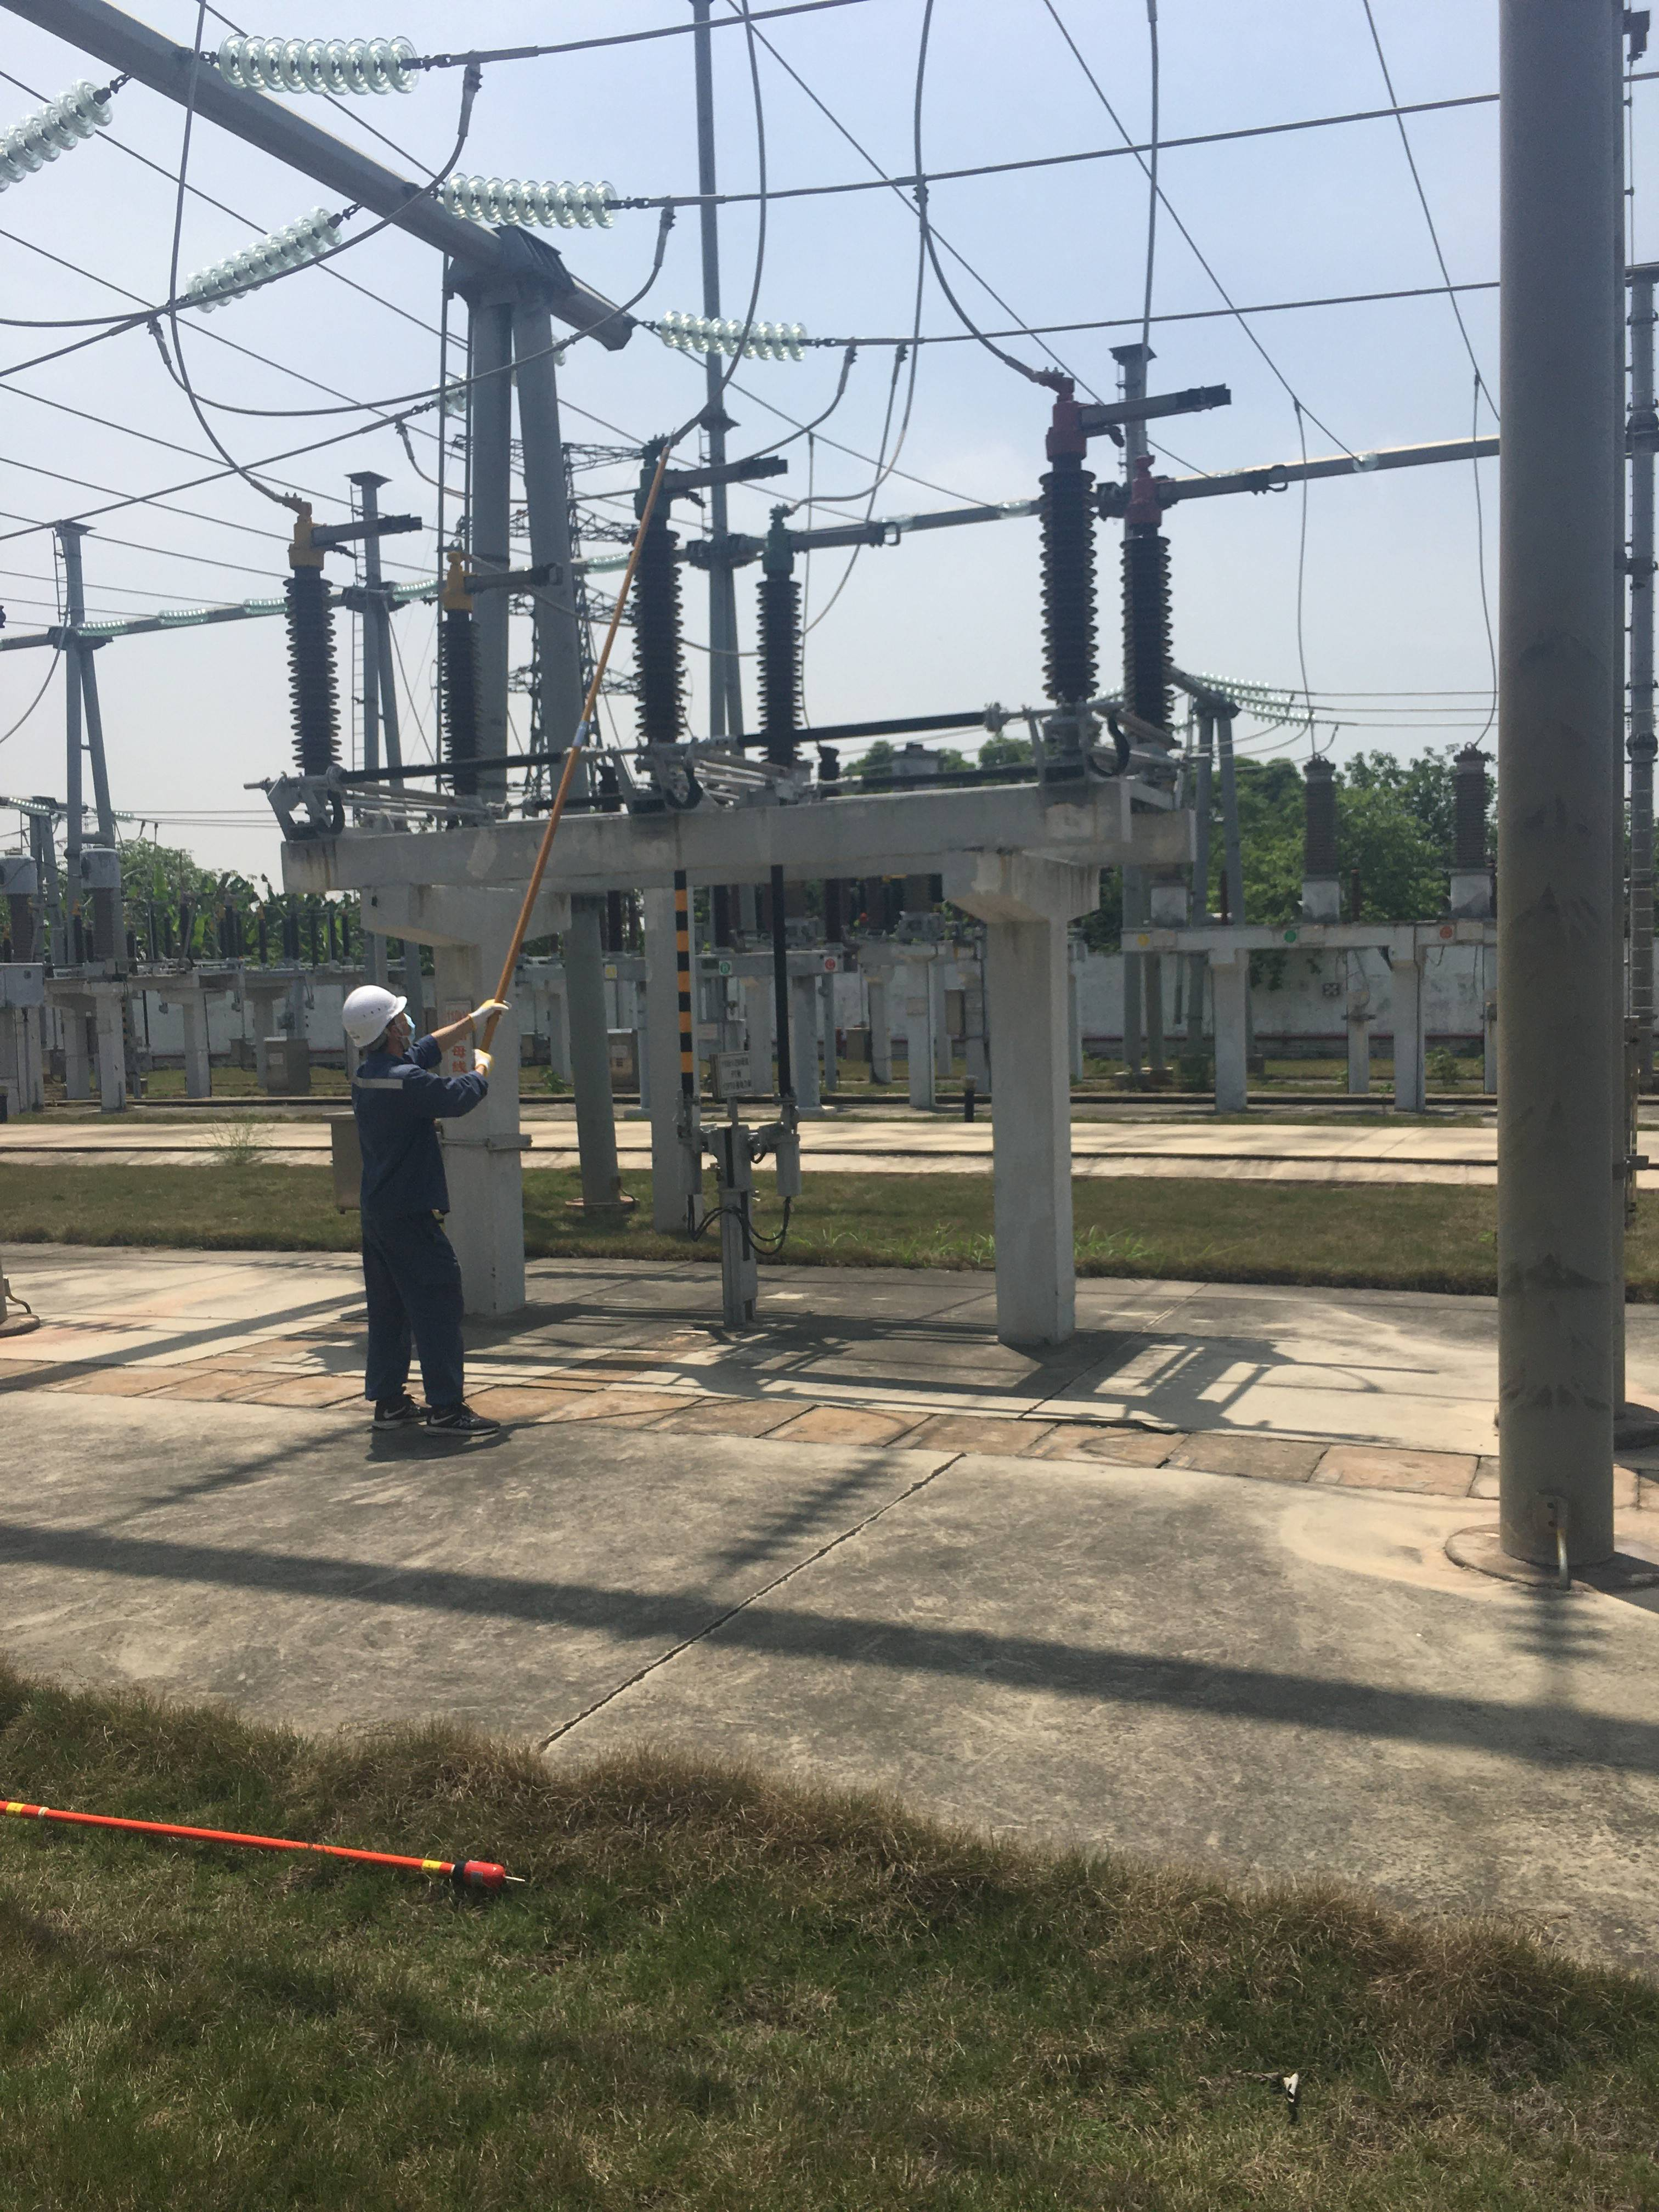downsuit: (359, 1221, 471, 1413)
upsuit: (347, 1049, 484, 1219)
wrongtop: (410, 1012, 477, 1061)
